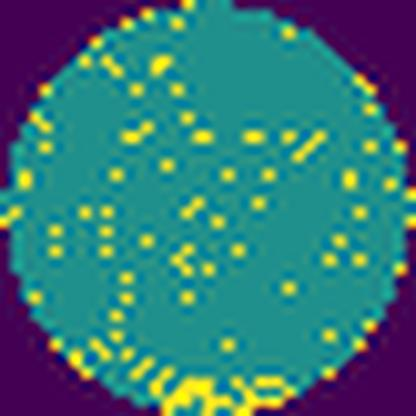Edge-Loc: (151, 363, 304, 416)
